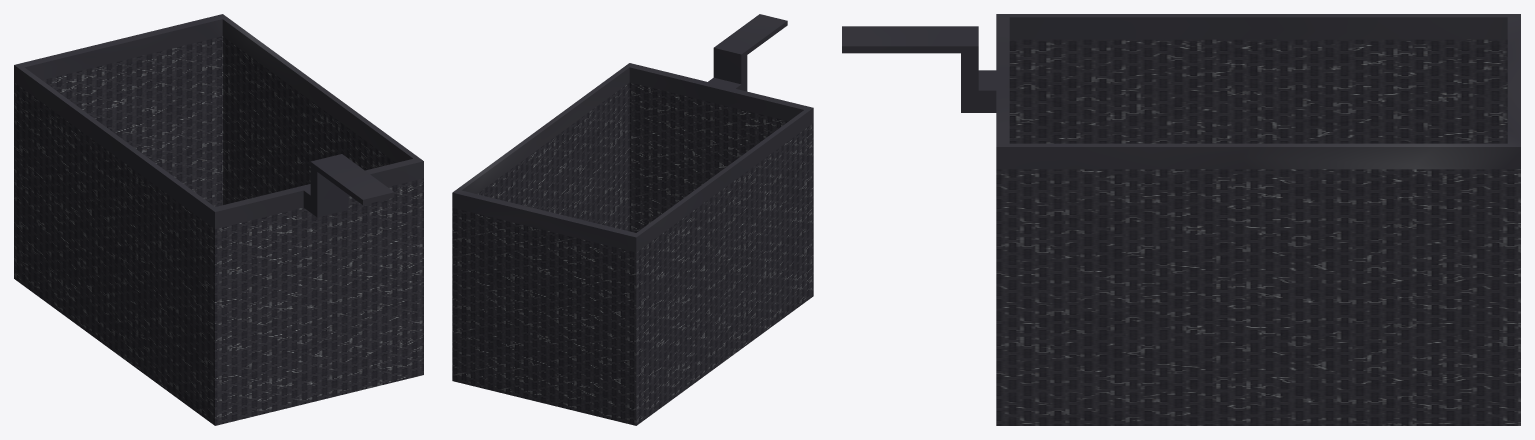
File: basket_2.fbx
The picture shows the model from 3 angles, left to right: view 1: azimuth 30°, elevation 25°; view 2: azimuth 150°, elevation 25°; view 3: azimuth 270°, elevation 25°; orthographic projection. The views are drawn at different scales.
Visible parts, largest first — view 1: Plane; view 2: Plane; view 3: Plane.
Part boxes in pixels (left/top/right/bottom): Plane: left=14, top=14, right=423, bottom=425; Plane: left=452, top=14, right=813, bottom=425; Plane: left=842, top=14, right=1520, bottom=425.
Size of the model in its own units: 24.71 by 28.01 by 53.32.
